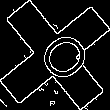O_SW: (21, 22, 89, 88)
